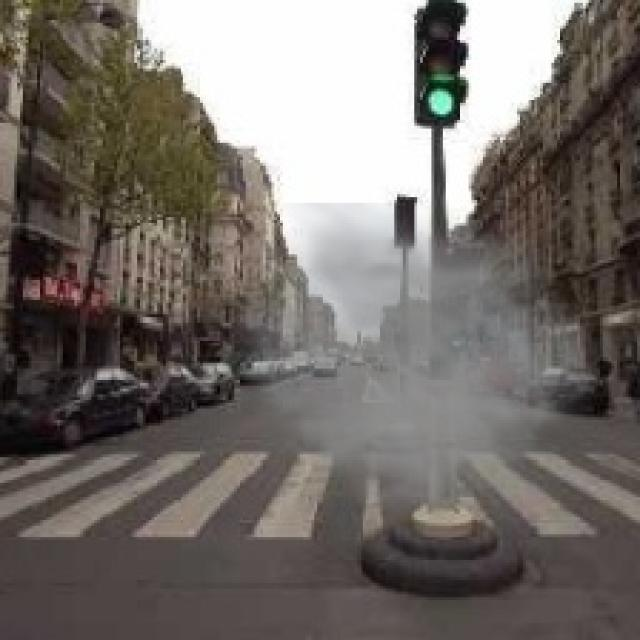smoke: (212, 203, 617, 548)
